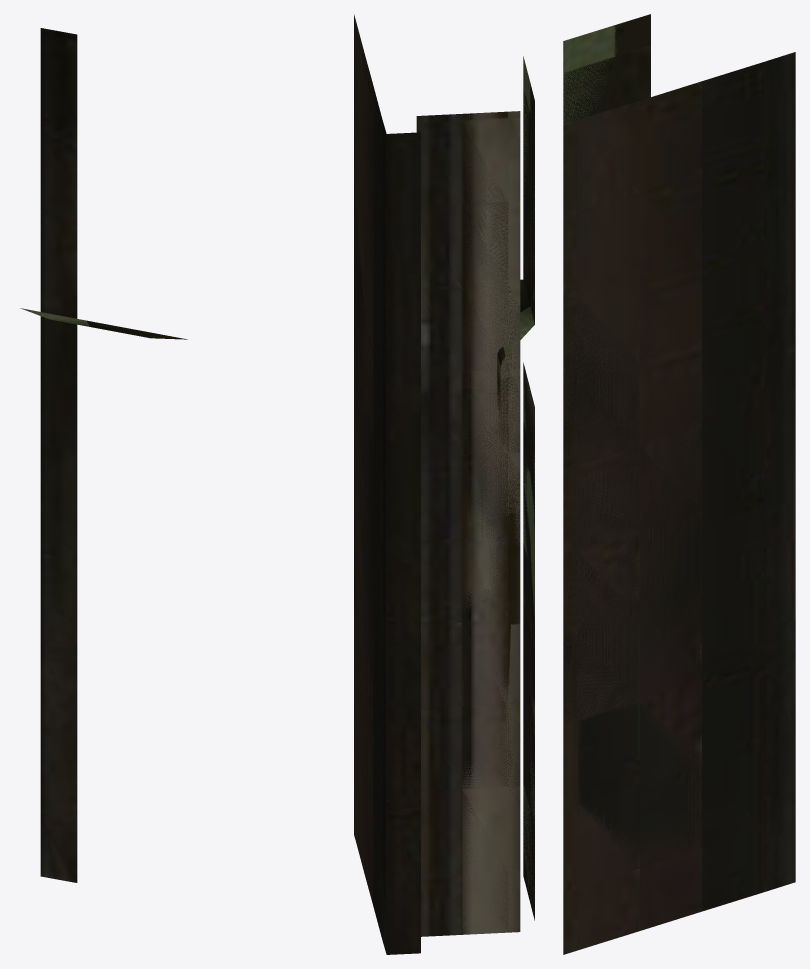
3 renders of one model, left to right at view 1: azimuth 30°, elevation 25°; view 2: azimuth 150°, elevation 25°; view 3: azimuth 270°, elevation 25°, orthographic. The views are drawn at different scales.
Bounding box in the file's own units: 0.4648 × 1.63 × 0.4123.
1 material, 1 textured.
